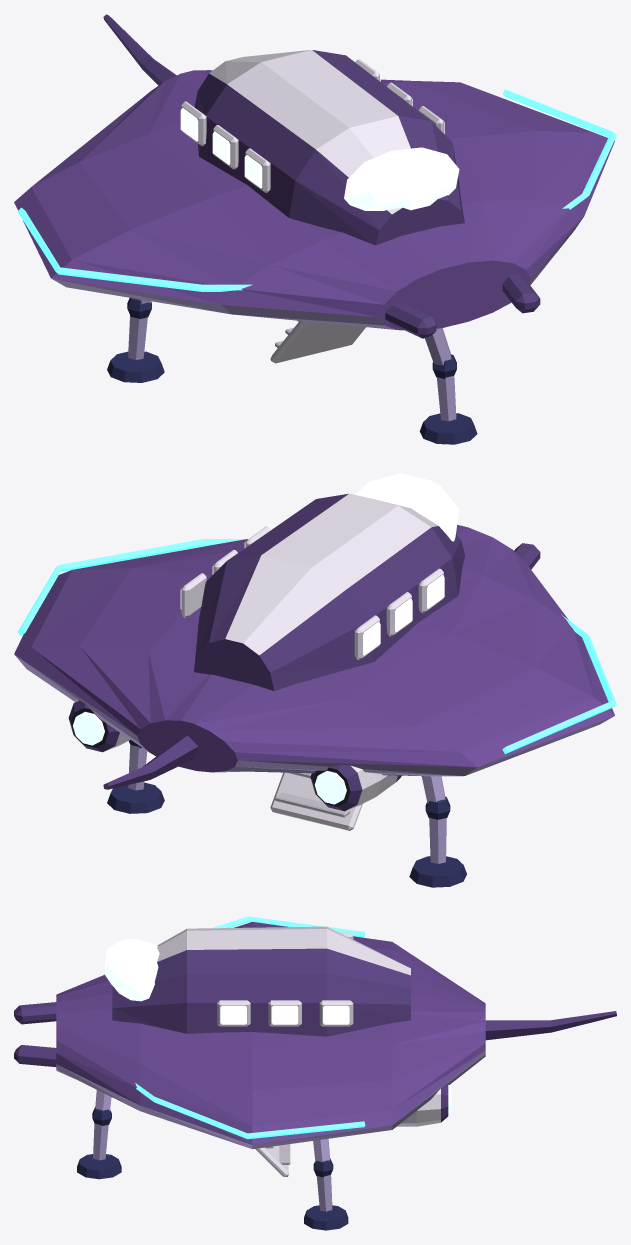
The model's file is aby-p_offen.glb.
3 views of the same model, one above another, from view 1: azimuth 30°, elevation 25°; view 2: azimuth 150°, elevation 25°; view 3: azimuth 270°, elevation 25° (orthographic). The views are drawn at different scales.
Parts seen in each view (by area): view 1: mantarumpf, mittelkabine, cockpit, lichtleisten, fenster, landebein_1, landebein_3, bauchtreppe, kopfflossen, schwanz; view 2: mantarumpf, mittelkabine, fenster, lichtleisten, cockpit, landebein_3, bauchtreppe, triebwerk_r, landebein_2, triebwerk_l, schwanz; view 3: mantarumpf, mittelkabine, fenster, cockpit, lichtleisten, landebein_2, landebein_1, schwanz, kopfflossen, triebwerk_l, bauchtreppe.
Boxes of the visible parts, box(x1,y1,x2,y2) form: mantarumpf: box(14, 70, 614, 330); mittelkabine: box(194, 50, 464, 245); cockpit: box(344, 147, 459, 210); lichtleisten: box(17, 89, 616, 291); fenster: box(180, 59, 444, 192); landebein_1: box(419, 328, 477, 444); landebein_3: box(107, 298, 164, 382); bauchtreppe: box(270, 320, 365, 363); kopfflossen: box(385, 274, 540, 338); schwanz: box(103, 14, 176, 85); mantarumpf: box(14, 525, 614, 776); mittelkabine: box(194, 493, 464, 691); fenster: box(180, 526, 444, 659); lichtleisten: box(17, 539, 616, 754); cockpit: box(355, 473, 459, 541); landebein_3: box(409, 776, 466, 887); bauchtreppe: box(270, 772, 362, 830); triebwerk_r: box(310, 765, 401, 811); landebein_2: box(107, 740, 164, 813); triebwerk_l: box(68, 700, 130, 752); schwanz: box(103, 735, 198, 789); mantarumpf: box(56, 922, 485, 1149); mittelkabine: box(112, 926, 410, 1036); fenster: box(217, 932, 353, 1026); cockpit: box(105, 938, 159, 1001); lichtleisten: box(135, 916, 365, 1139); landebein_2: box(304, 1138, 348, 1230); landebein_1: box(77, 1090, 121, 1179); schwanz: box(485, 1011, 616, 1040); kopfflossen: box(14, 1002, 56, 1066); triebwerk_l: box(397, 1084, 451, 1126); bauchtreppe: box(255, 1144, 290, 1176).
Bounding box in the file's own units: 0.14 × 0.066 × 0.1615.
